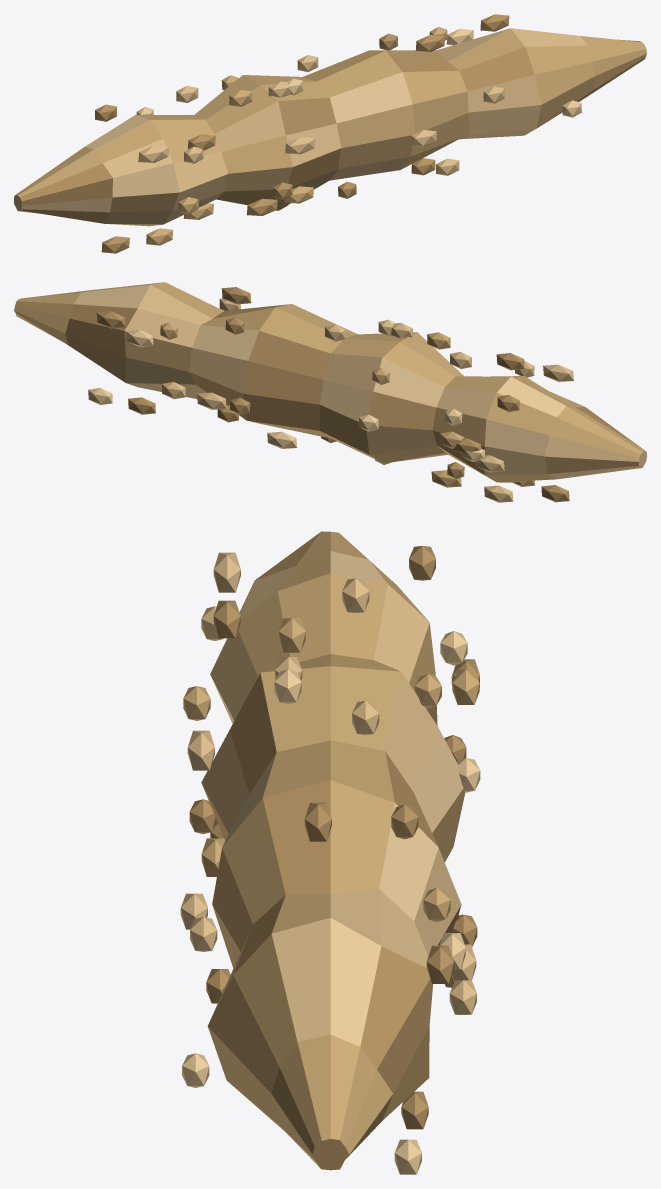
The model's file is PipeSlug.glb.
3 renders of one model, top to bottom at view 1: azimuth 30°, elevation 25°; view 2: azimuth 150°, elevation 25°; view 3: azimuth 270°, elevation 25°, orthographic. The views are drawn at different scales.
Parts seen in each view (by area): view 1: PipeSlug; view 2: PipeSlug; view 3: PipeSlug.
Part boxes in pixels (x1,y1,x2,y2): PipeSlug: [14, 14, 646, 253]; PipeSlug: [14, 282, 646, 502]; PipeSlug: [180, 531, 480, 1174].
Bounding box in the file's own units: 0.9 × 0.1936 × 0.1869.
